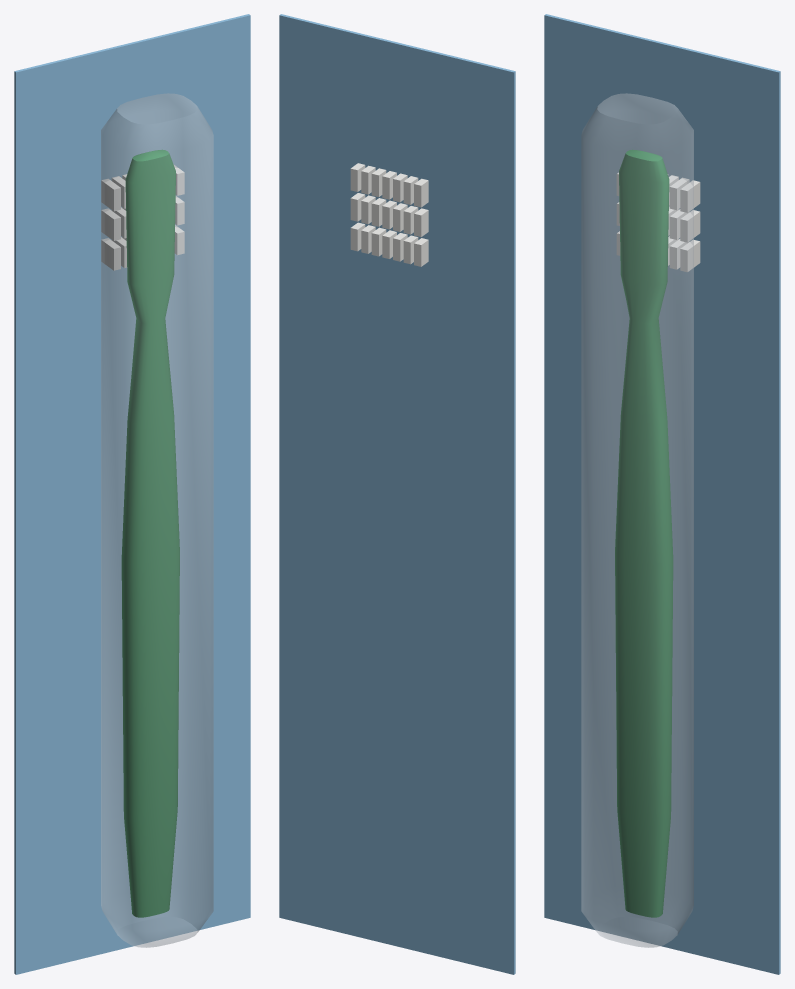
Rendered from escova_dental_embalagem.dae.
The picture shows the model from 3 angles, left to right: view 1: azimuth 30°, elevation 25°; view 2: azimuth 150°, elevation 25°; view 3: azimuth 330°, elevation 25°; orthographic projection.
Parts seen in each view (by area): view 1: Escova dental - embalagem (×4); view 2: Escova dental - embalagem (×2); view 3: Escova dental - embalagem (×4).
Boxes of the visible parts, x1,y1,x2,y2 form: Escova dental - embalagem (×4): (14,14,250,974); Escova dental - embalagem (×2): (279,14,515,974); Escova dental - embalagem (×4): (544,14,780,974).
Size of the model in its own units: 62 by 26.2 by 228.
